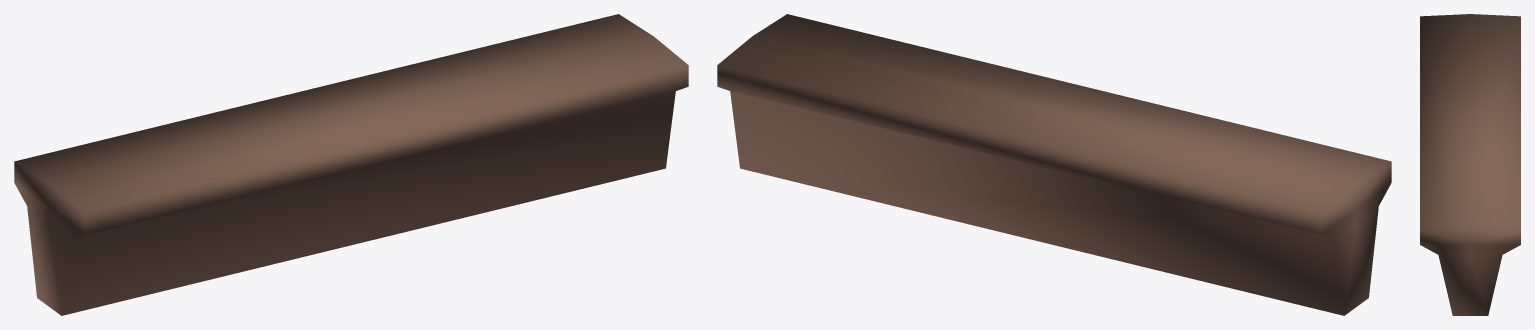
File: EdgeMesh01.fbx
The picture shows the model from 3 angles, left to right: view 1: azimuth 30°, elevation 25°; view 2: azimuth 150°, elevation 25°; view 3: azimuth 270°, elevation 25°; orthographic projection. The views are drawn at different scales.
Visible parts, largest first — view 1: Edge01_low; view 2: Edge01_low; view 3: Edge01_low.
Part boxes in pixels (x1,y1,x2,y2): Edge01_low: [14, 14, 688, 315]; Edge01_low: [717, 14, 1391, 315]; Edge01_low: [1420, 14, 1520, 315].
Size of the model in its own units: 5 by 0.9744 by 1.
